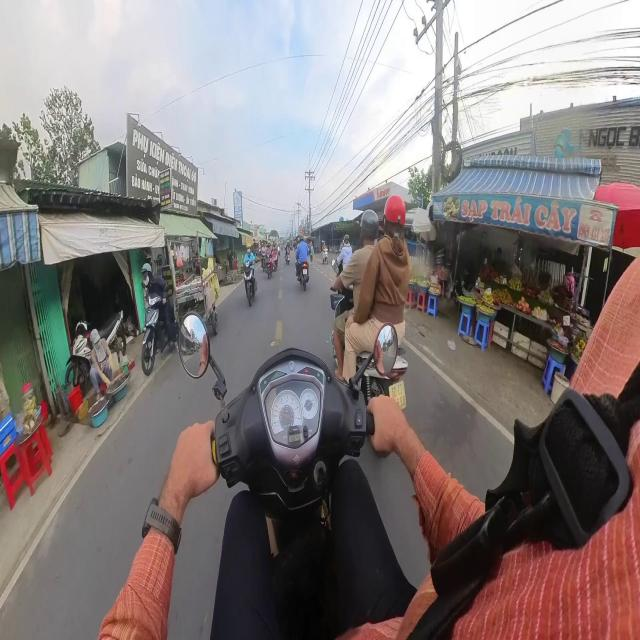motorcycle: (179, 314, 397, 637), (362, 349, 407, 408), (141, 294, 169, 375), (65, 322, 91, 394), (244, 261, 256, 306), (299, 261, 308, 290), (322, 249, 328, 264), (286, 252, 290, 264)
